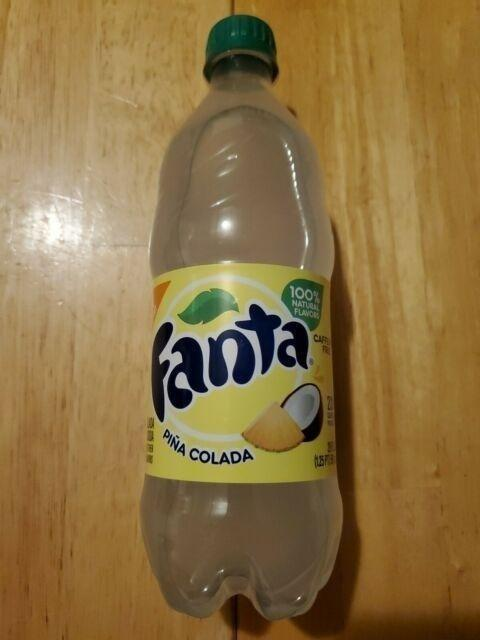bottle-plastic: (136, 6, 348, 629)
